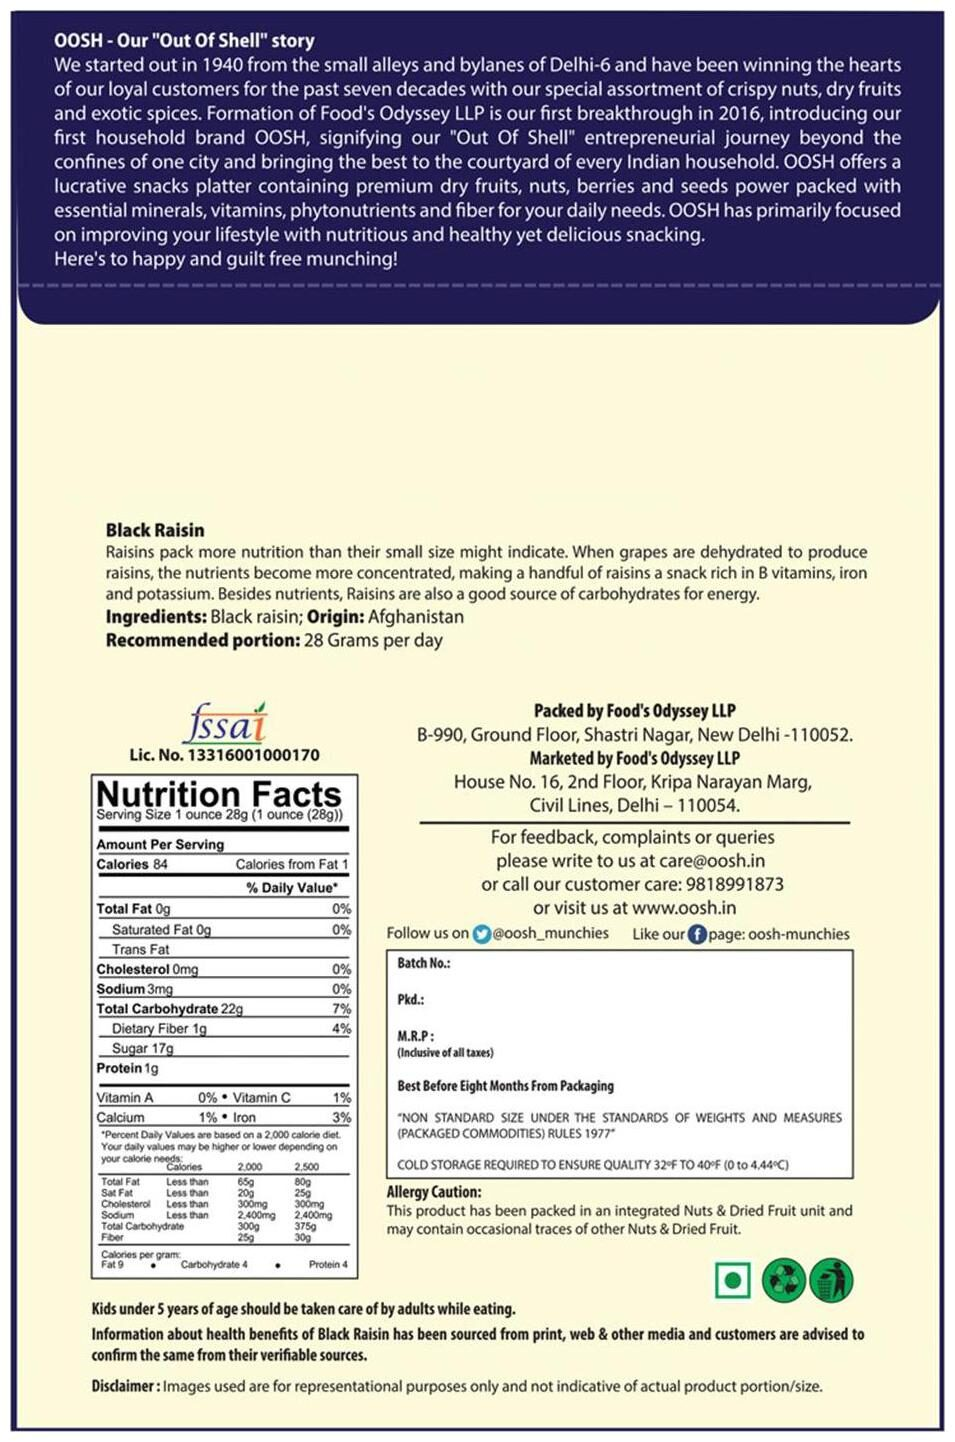fssai: (179, 700, 269, 746)
